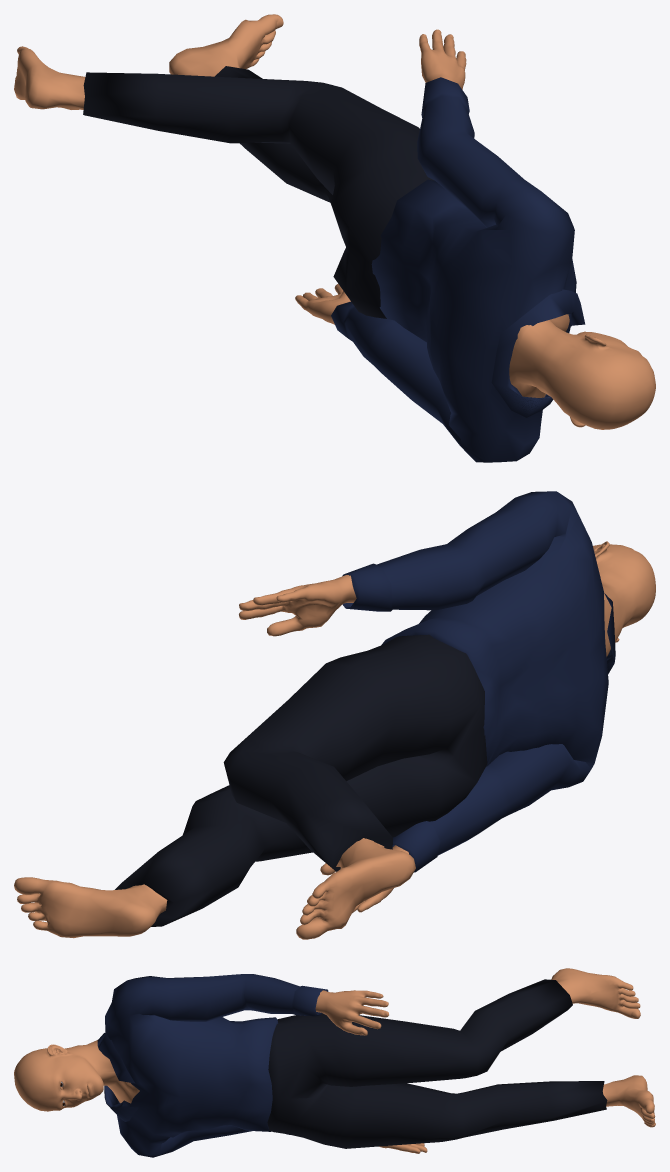
Rendered from walk.obj.
3 renders of one model, top to bottom at view 1: azimuth 30°, elevation 25°; view 2: azimuth 150°, elevation 25°; view 3: azimuth 270°, elevation 25°, orthographic. The views are drawn at different scales.
Bounding box in the file's own units: 0.6579 × 0.5549 × 1.69.
